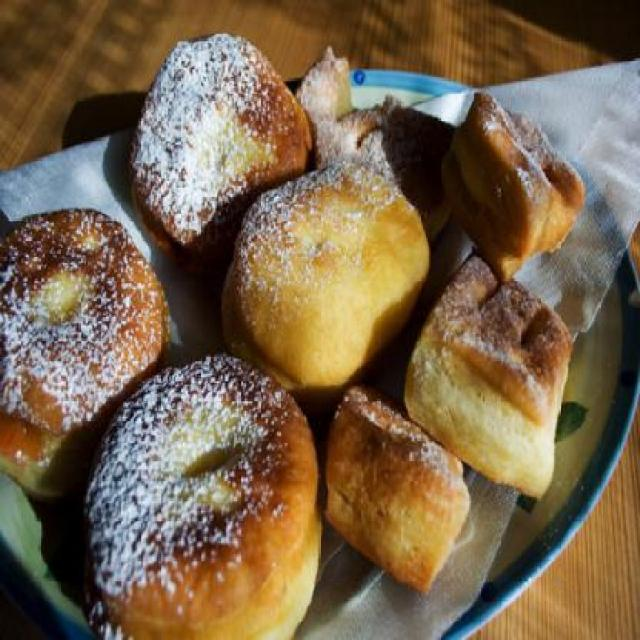Donuts: (6, 34, 620, 638)
